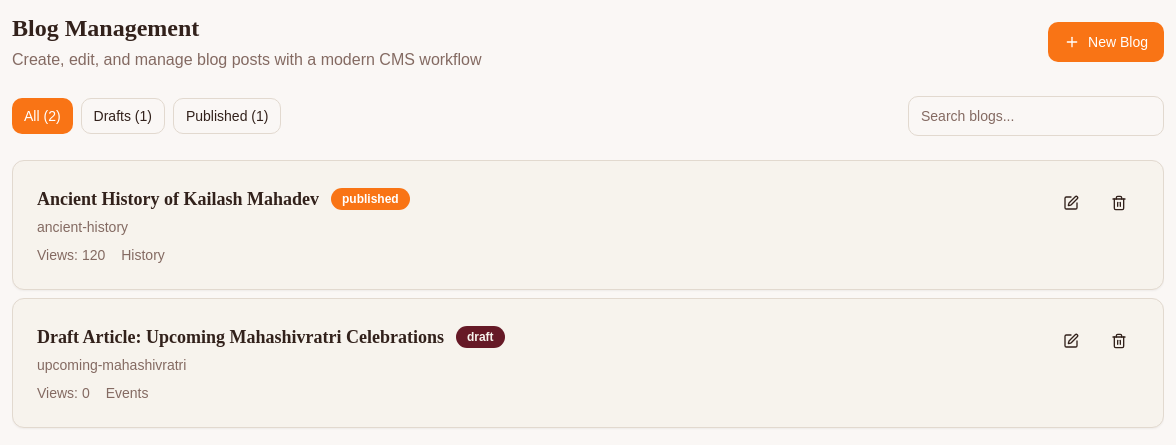
Scenario: AdminBlogManagement — Regression tests for Draft blog visibility › allows filtering between All, Drafts, and Published blogs
Filter by Drafts
Step 1. Click the button "Drafts (1)" → x=123, y=116, box [81,98,165,134]
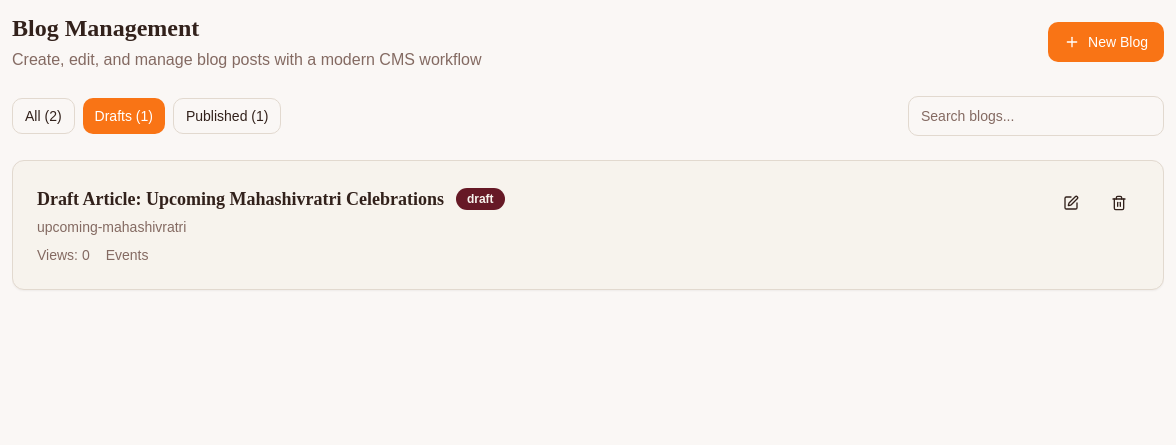
Expected: the heading "Draft Article: Upcoming Mahashivratri Celebrations" is shown, [37,185,444,213]
Result: the heading "Ancient History of Kailash Mahadev" is gone
Filter by Published
Step 2. Click the button "Published (1)" → x=227, y=116, box [173,98,282,134]
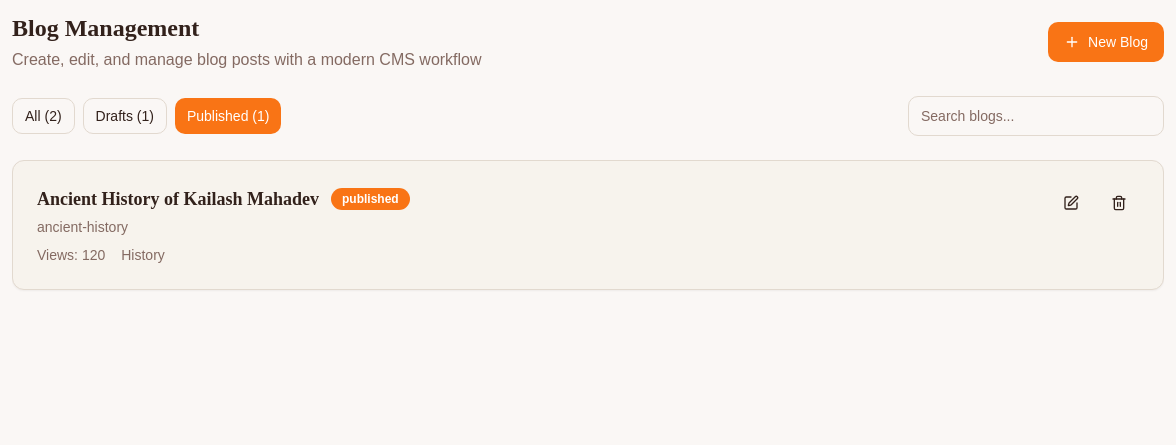
Result: the heading "Ancient History of Kailash Mahadev" is shown at [37,185,319,213]
Result: the heading "Draft Article: Upcoming Mahashivratri Celebrations" is gone
Filter by All
Step 3. Click the button "All (2)" → x=43, y=116, box [12,98,75,134]
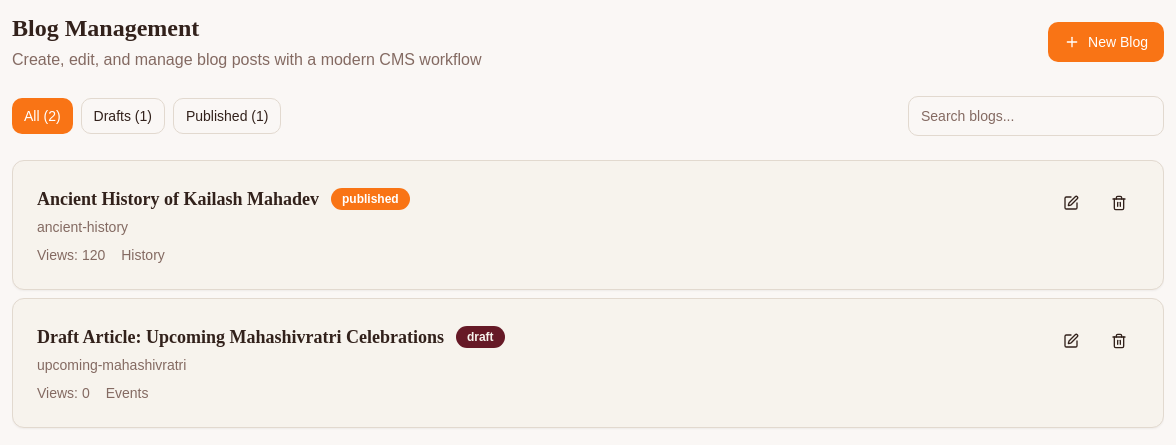
Result: the heading "Ancient History of Kailash Mahadev" is shown at [37,185,319,213]
Result: the heading "Draft Article: Upcoming Mahashivratri Celebrations" is shown at [37,323,444,351]
